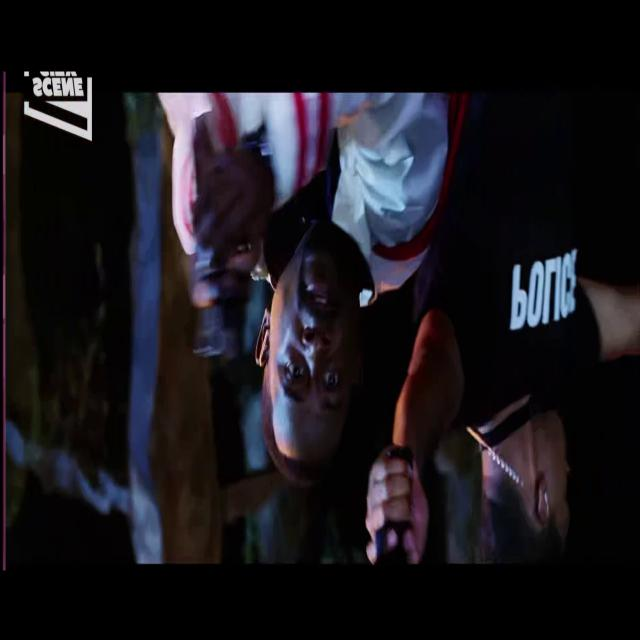weapons: (179, 207, 259, 397)
